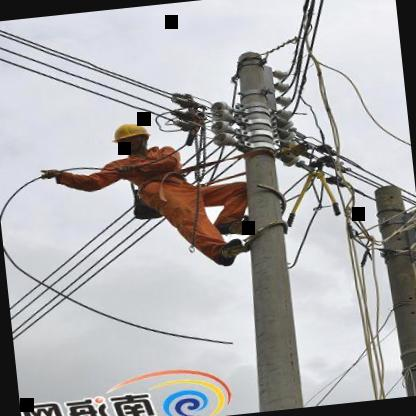helmet: (106, 118, 158, 154)
